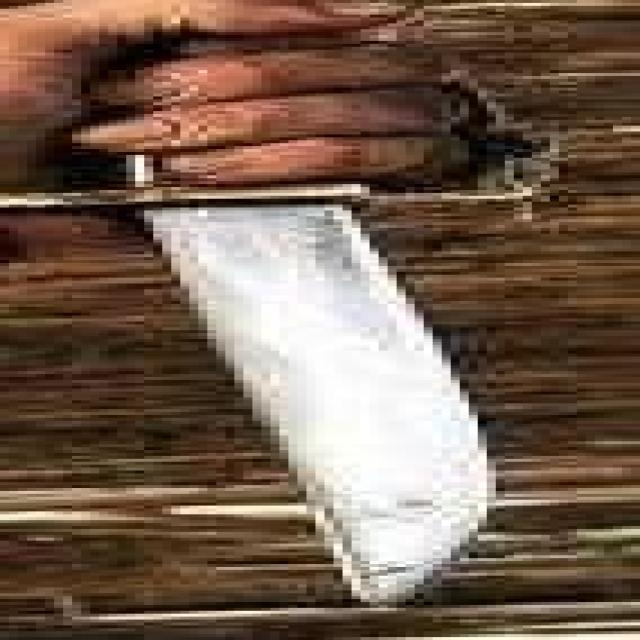Knife: (0, 0, 550, 614)
